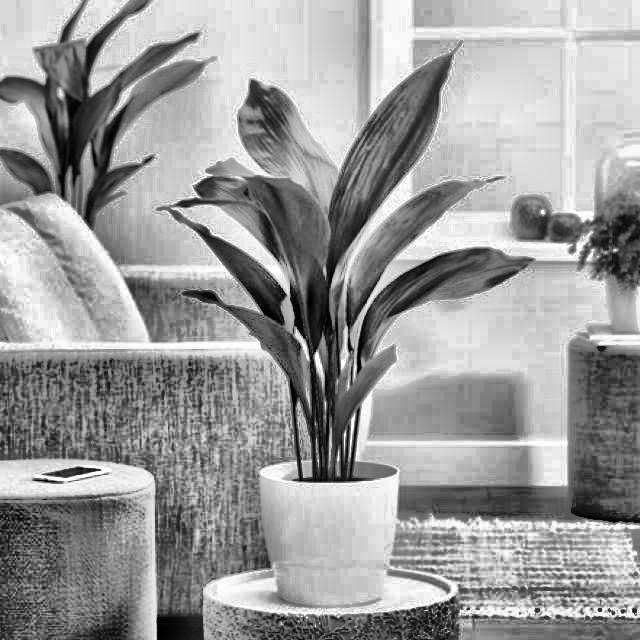plants: (155, 64, 463, 434), (13, 45, 158, 192), (582, 182, 640, 287)
